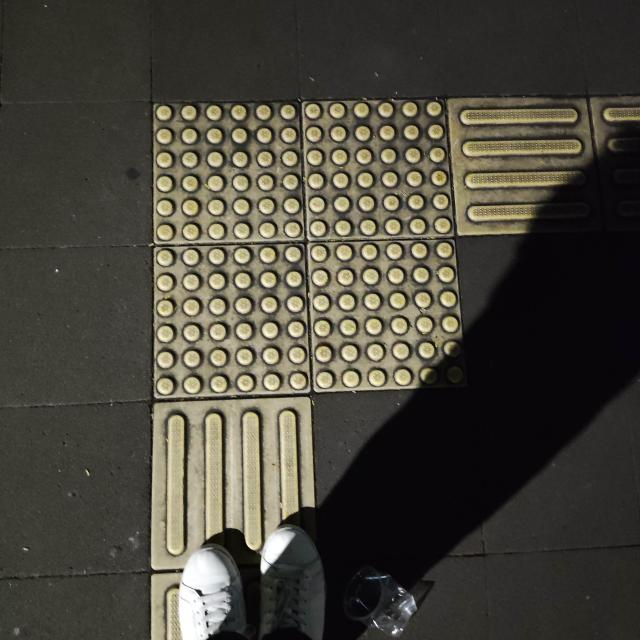kanan: (97, 59, 640, 496)
